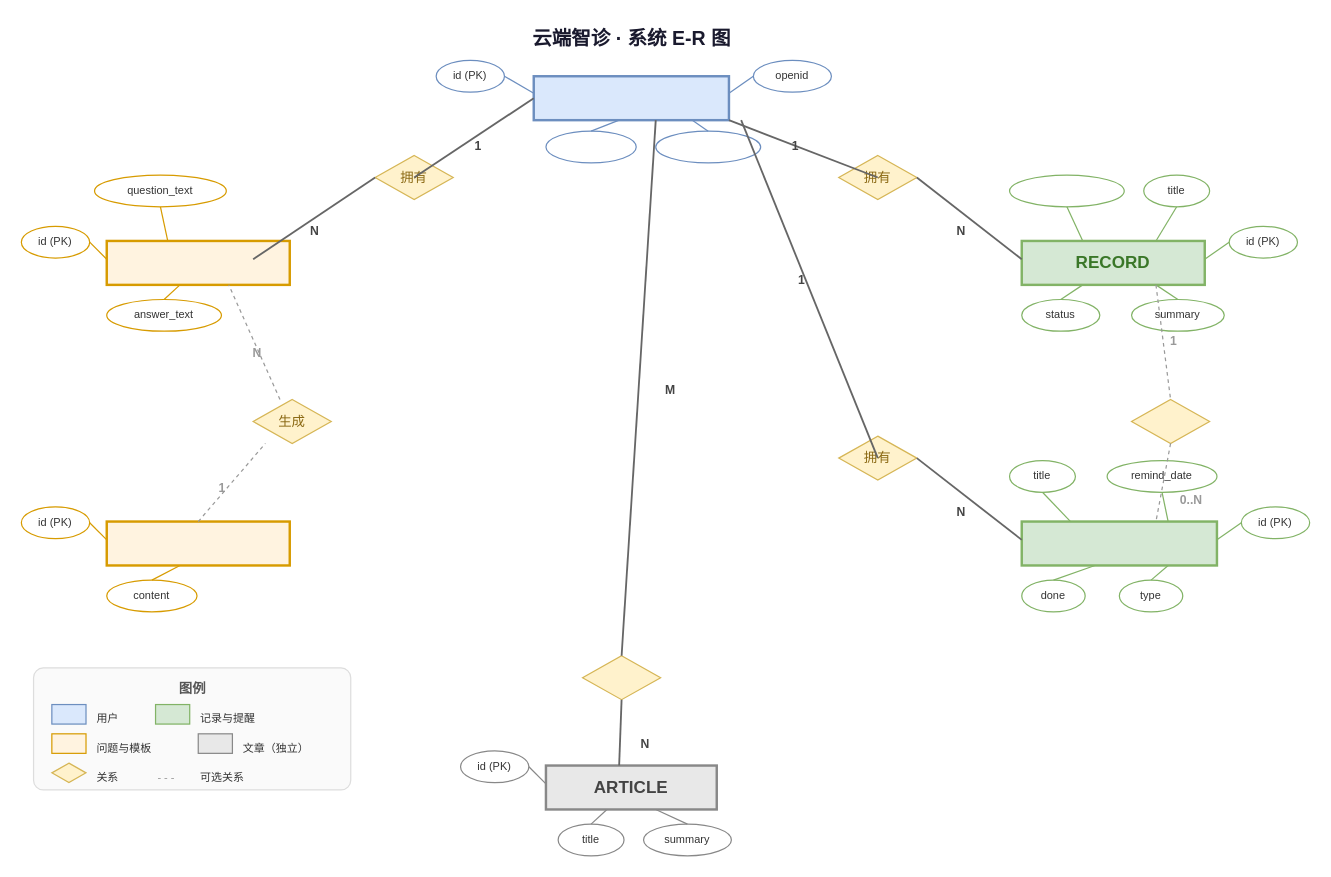
The diagram is 1331 pixels wide and 877 high, and some of its shapes have lost their labels. Each missing label, with the box of its shape:
avatar_url: (655, 130, 761, 163)
nickname: (545, 130, 636, 163)
QUESTION: (105, 239, 290, 285)
record_date: (1008, 174, 1124, 207)
REMINDER: (1020, 520, 1218, 566)
TEMPLATE: (105, 520, 290, 566)
USER: (532, 74, 730, 121)
浏览: (581, 655, 661, 700)
触发: (1130, 398, 1210, 443)
